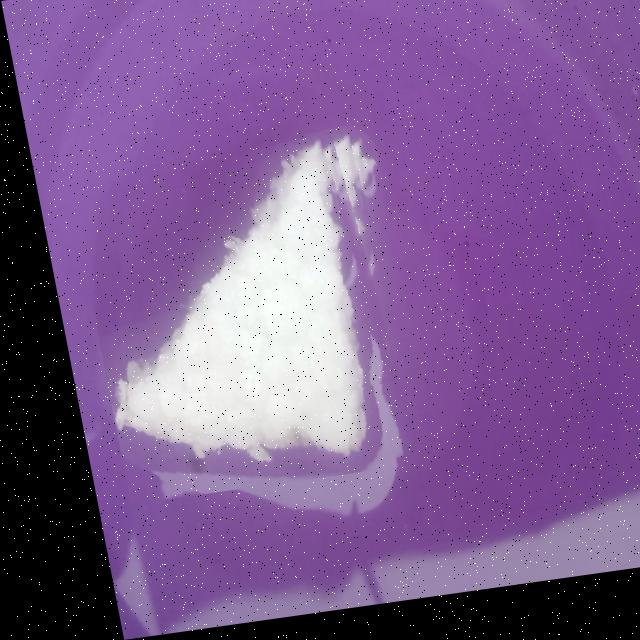litter: (58, 137, 403, 504)
